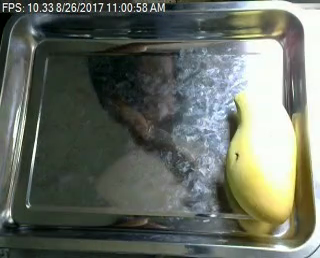Mango: (219, 88, 303, 228)
